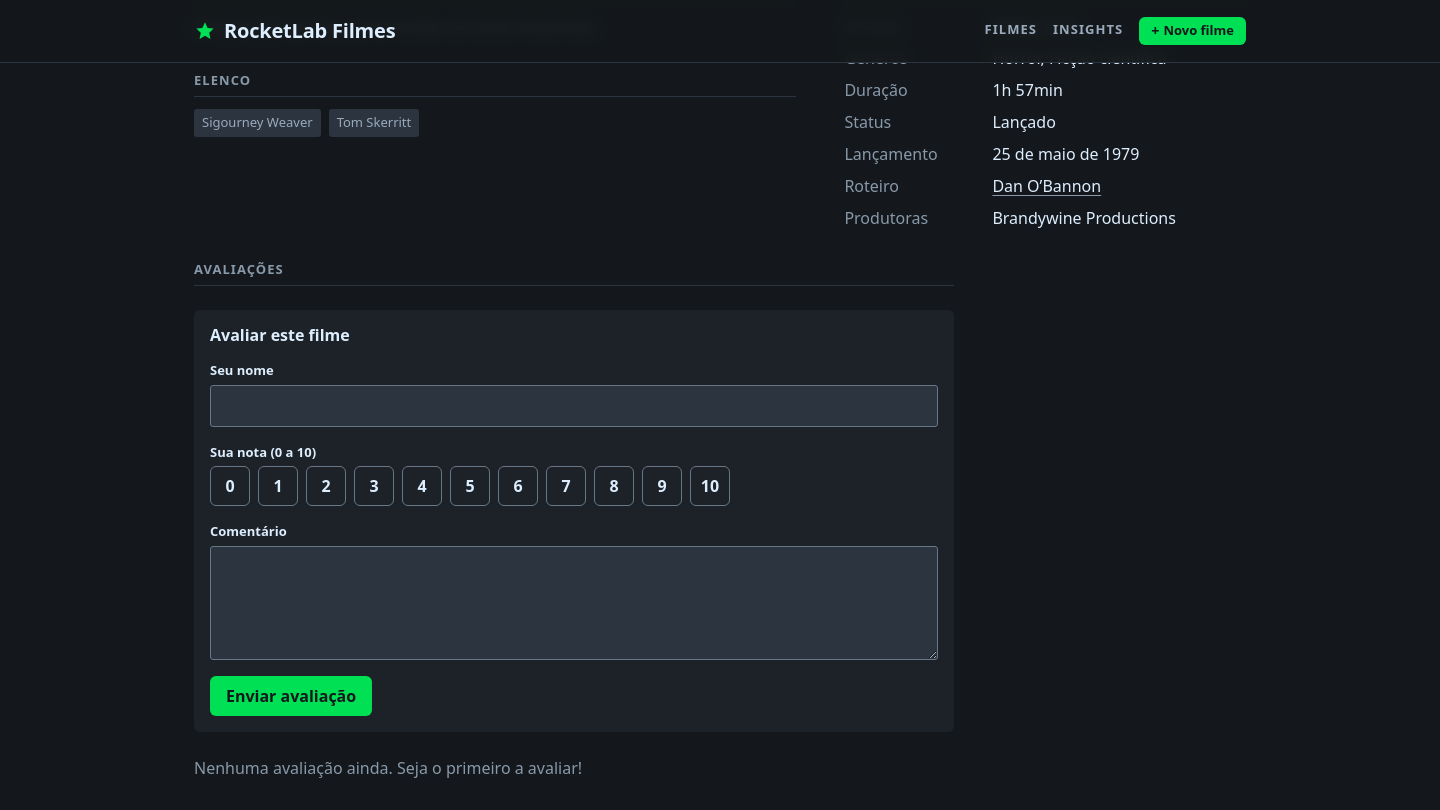
MovieDetailPage — nova avaliação › envia a nota de 0 a 10 e atualiza média e lista
(page scrolled)
Type "Carla" into the field labelled "Seu nome" at [574, 406], box [210,385,938,427]
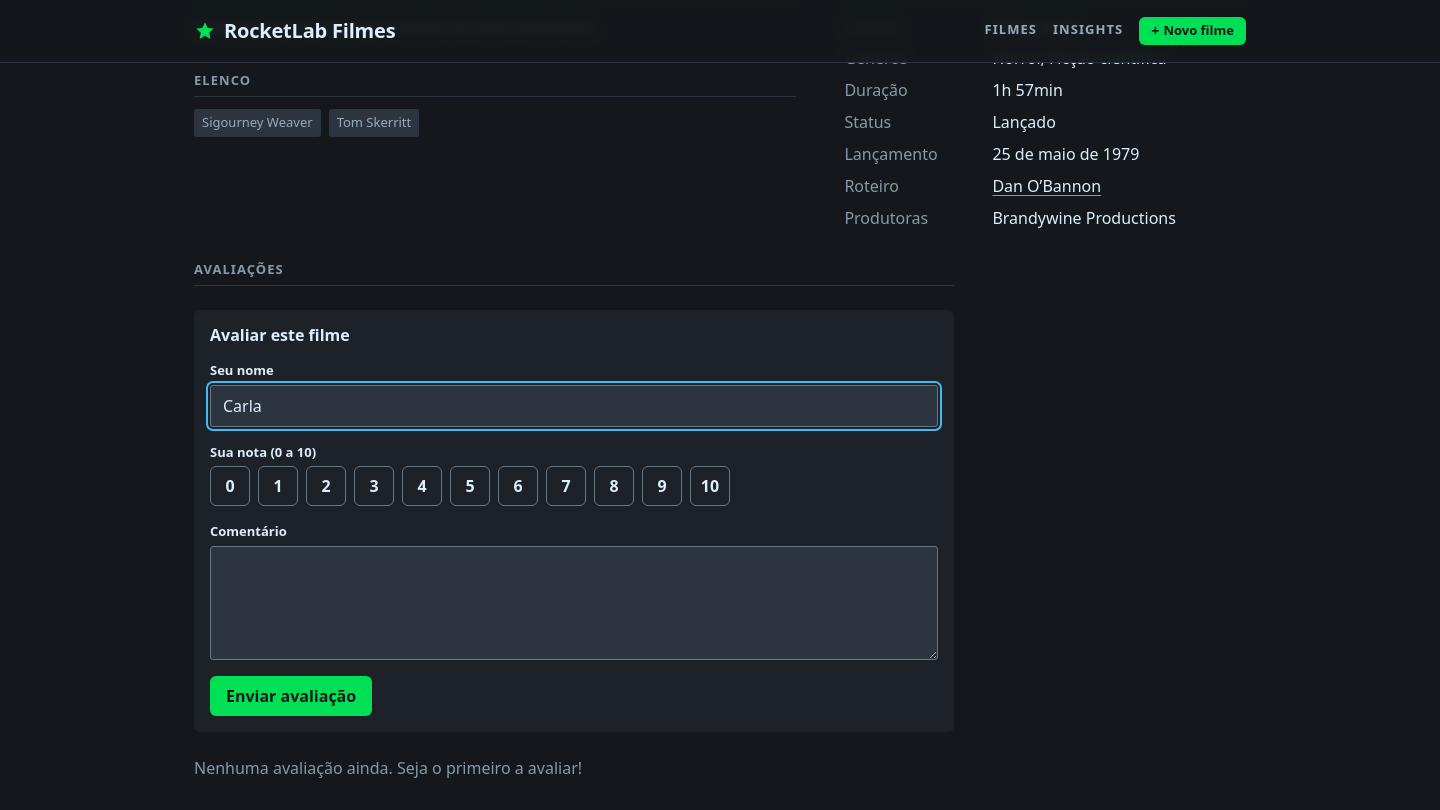
Click the radio button named "Nota 7" at [566, 486], box [546,466,586,506]
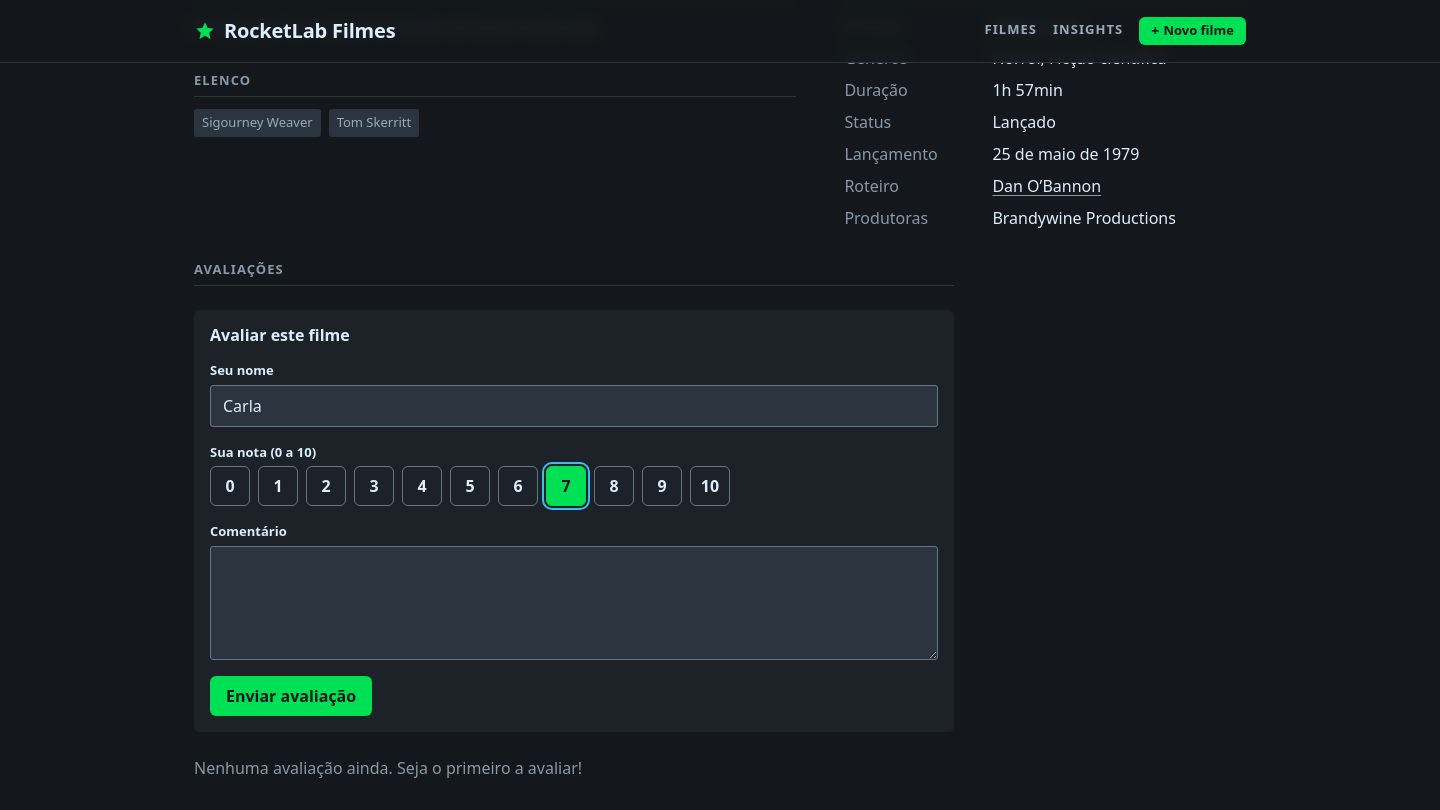
Type "Bom suspense." into the text box labelled "Comentário" at [574, 603], box [210,546,938,660]
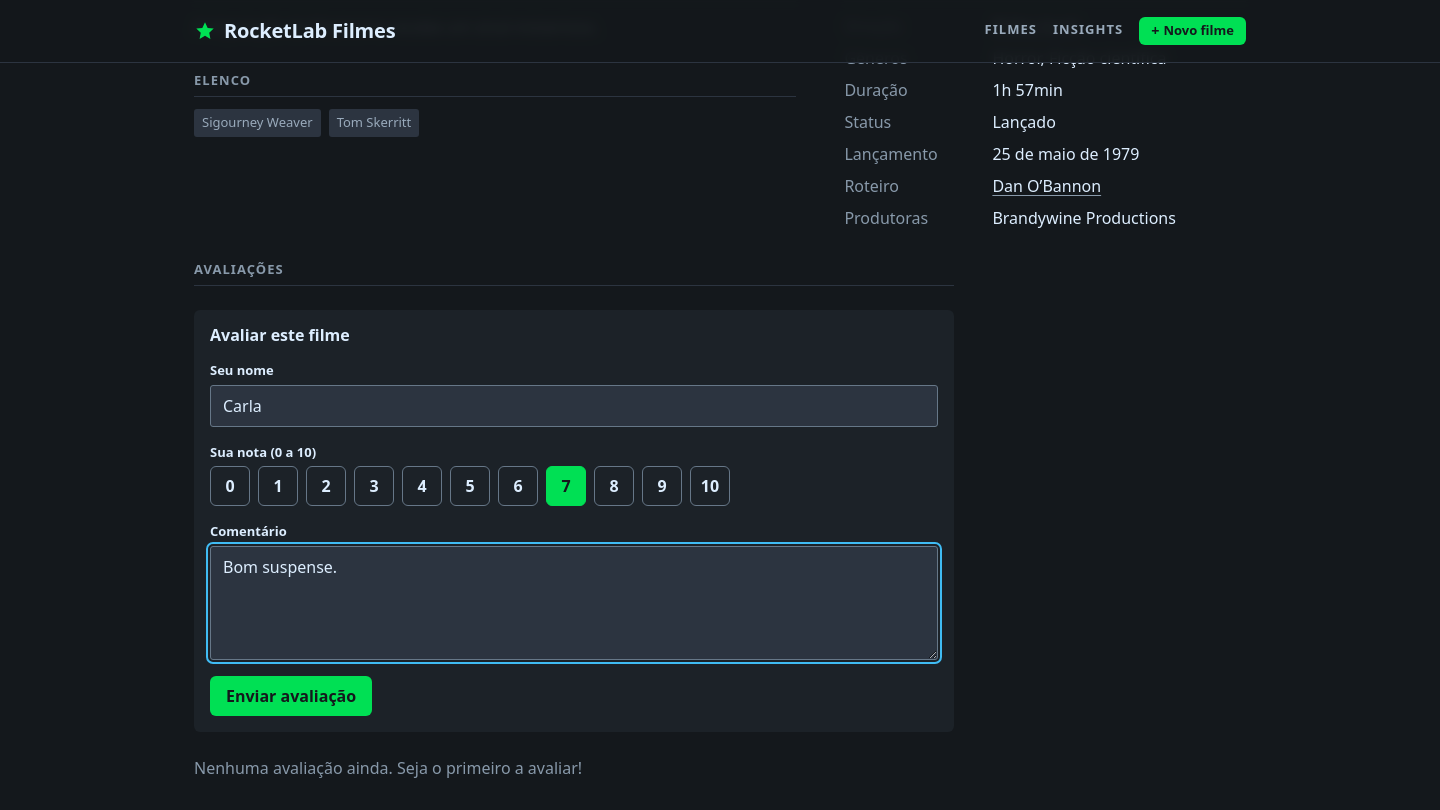
Click the button "Enviar avaliação" at [291, 696], box [210,676,372,716]
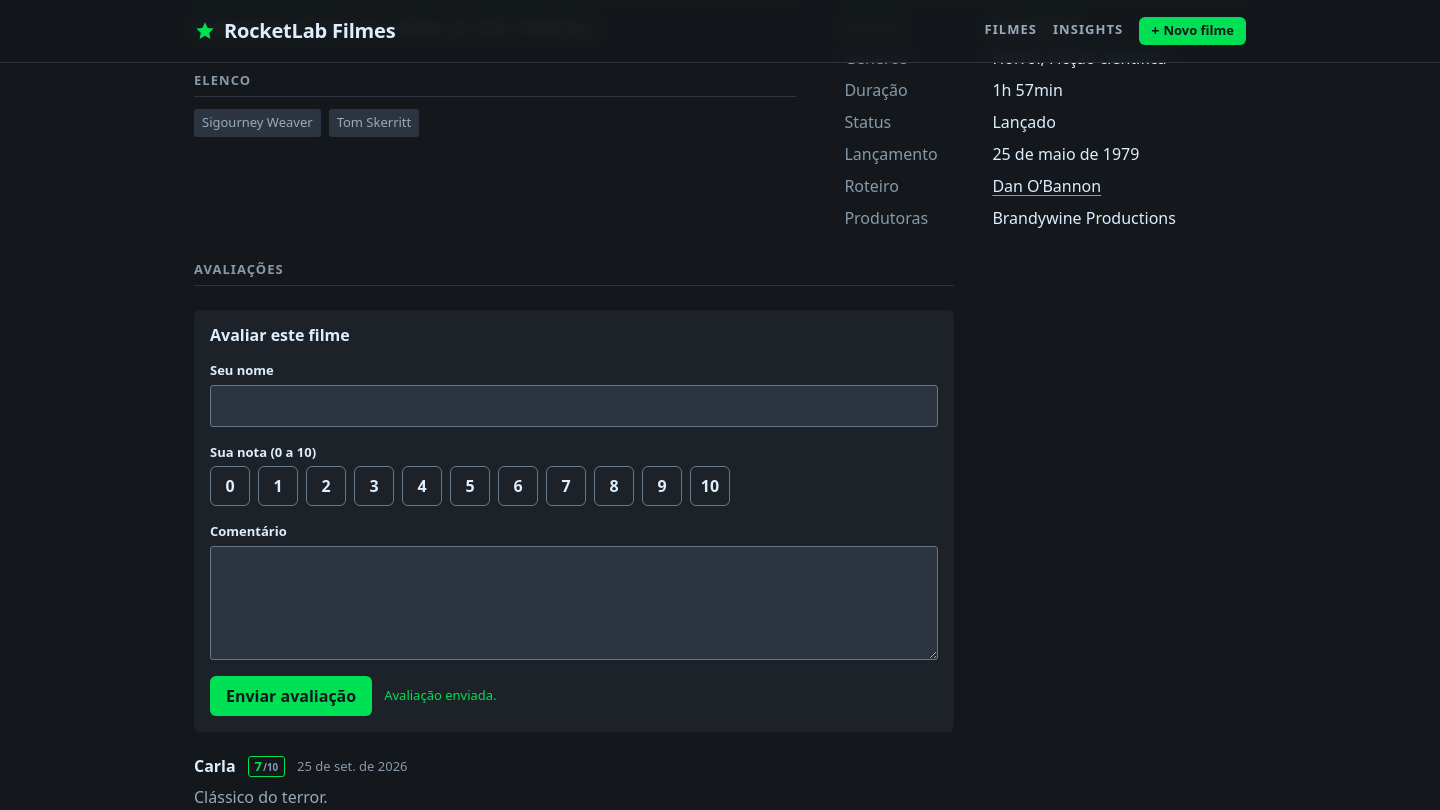
Expected: the heading "Carla" is shown, [194,757,236,776]
Expected: the message reads "Avaliação enviada.", [384,686,497,704]
Expected: the field labelled "Seu nome" is empty, [210,385,938,427]
